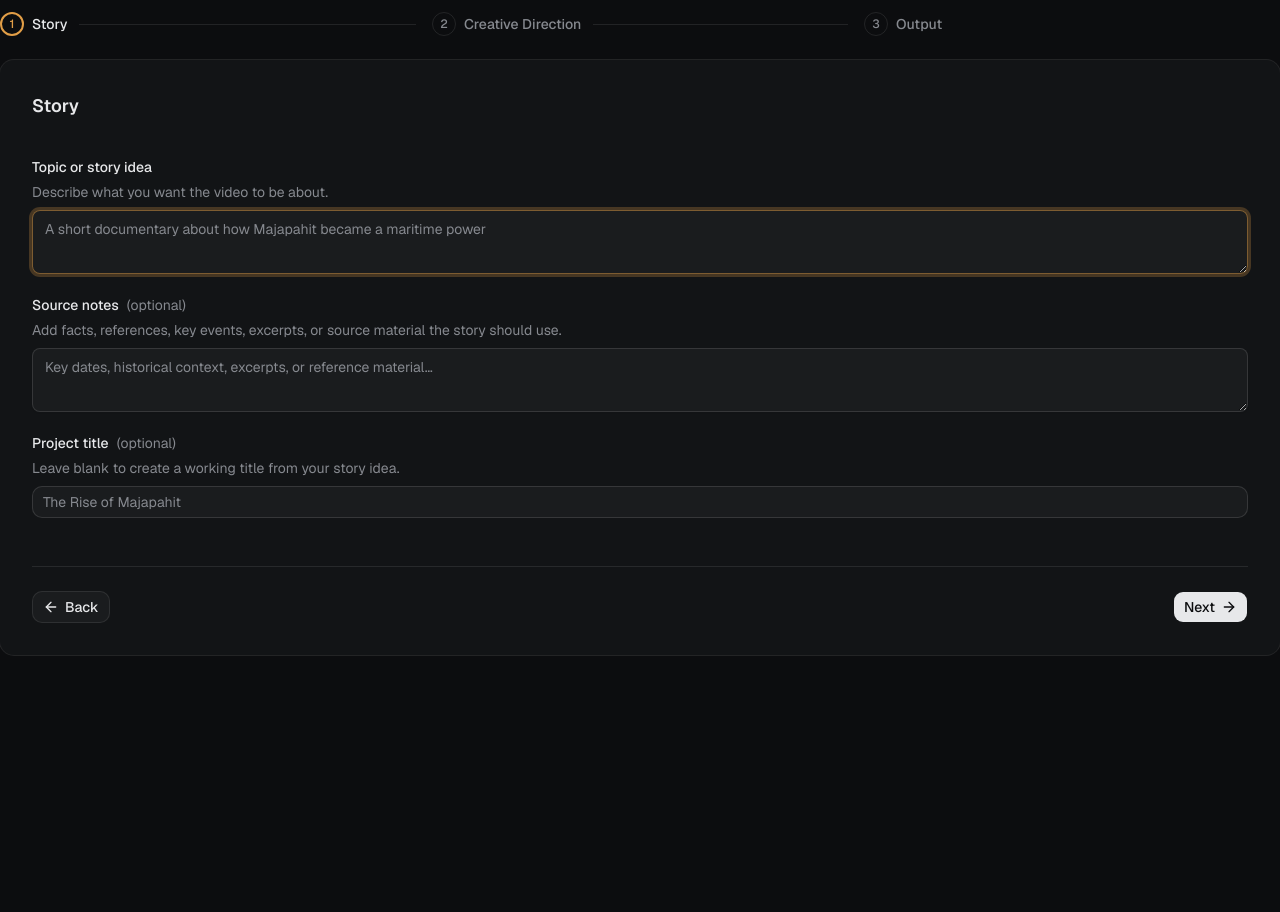
Historical VideoWizard › requires a topic and keeps Story values during step navigation
The image size is (1280, 912).
Click the button "Next": (1210, 607) left=1173, top=591, right=1248, bottom=623
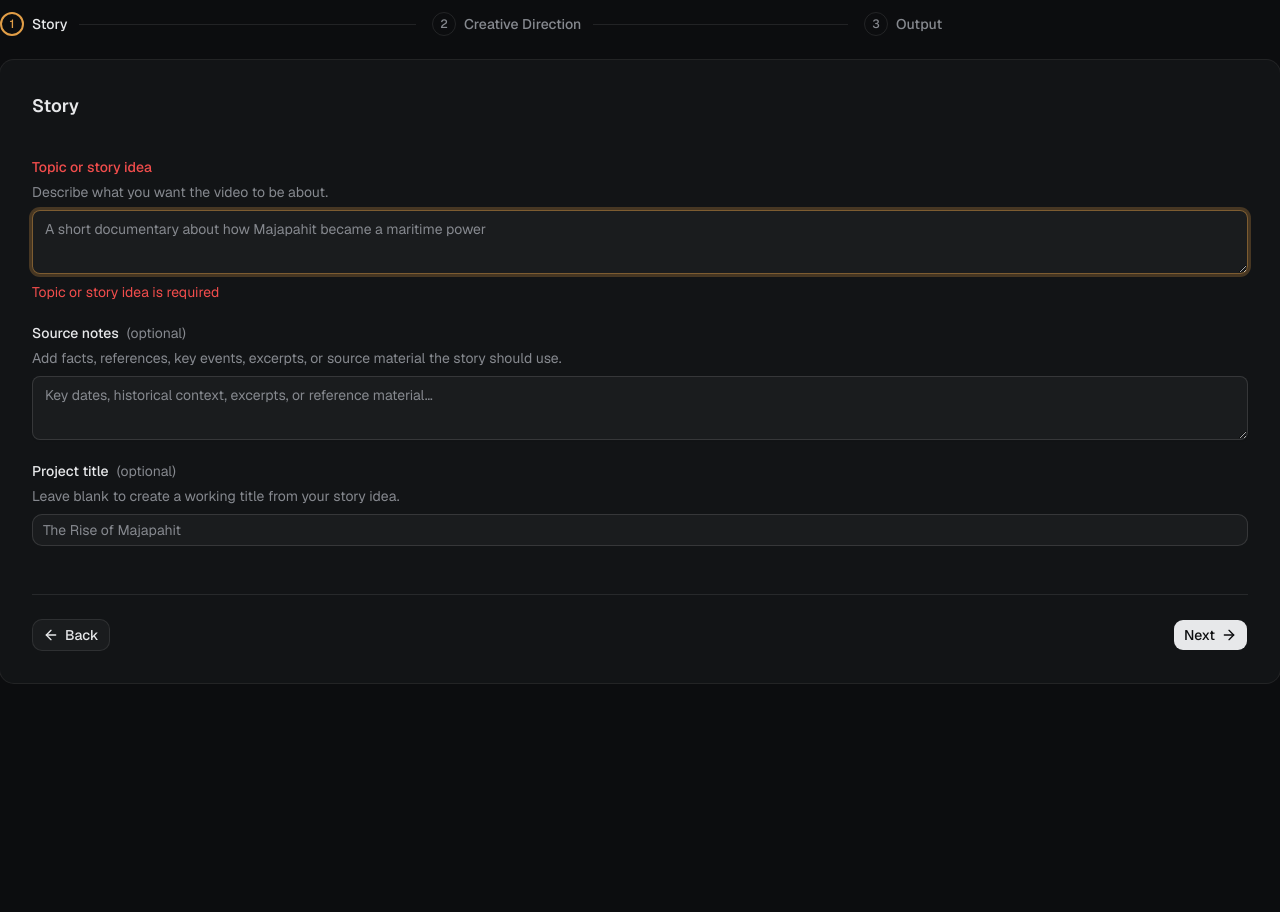
Now the text "Topic or story idea is required" is shown, box left=32, top=283, right=219, bottom=301
In the text box labelled "Topic or story idea": (640, 242) left=32, top=210, right=1248, bottom=274, type "A documentary about Majapahit maritime power"
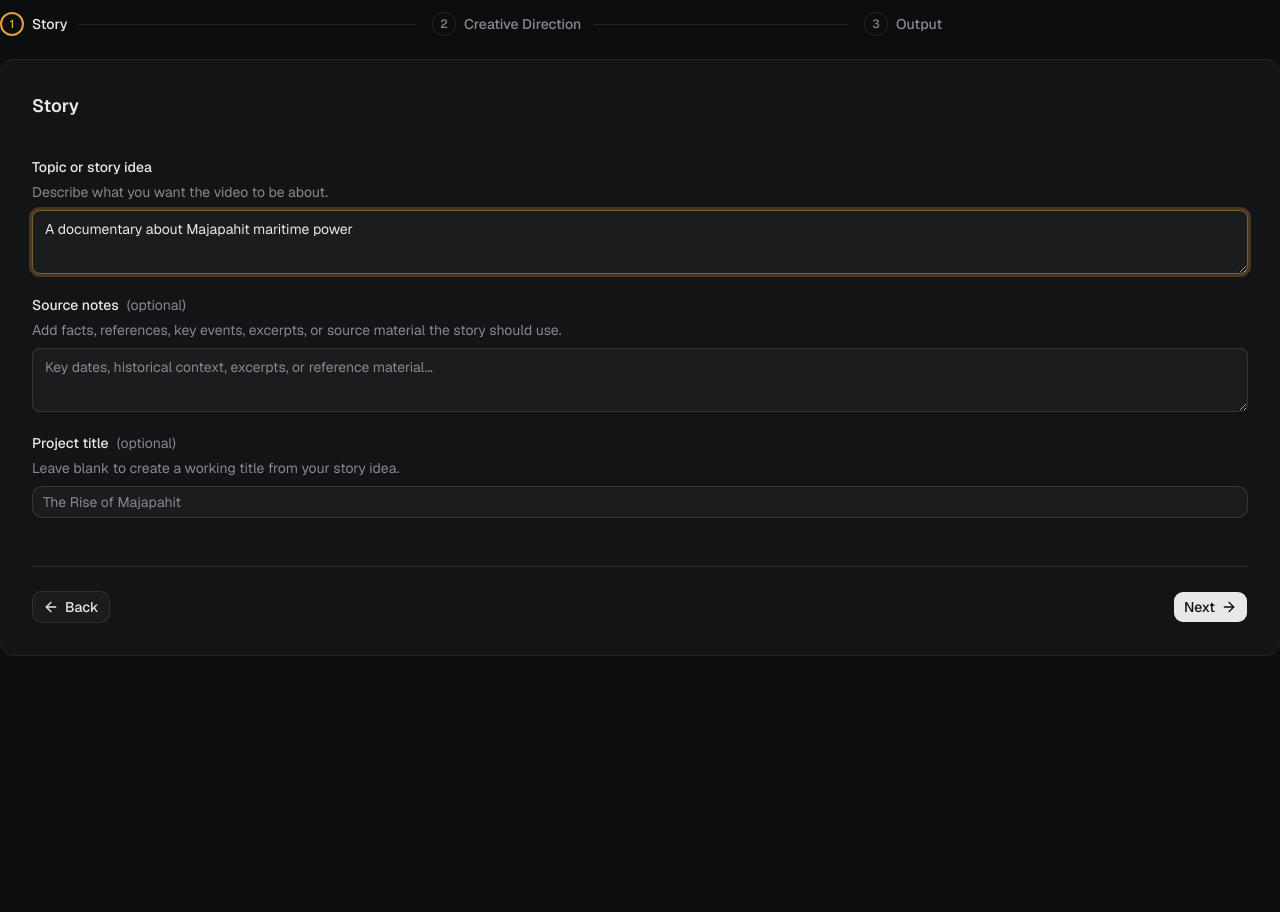
In the text box labelled "Source notes (optional)": (640, 380) left=32, top=348, right=1248, bottom=412, type "A dated source excerpt."
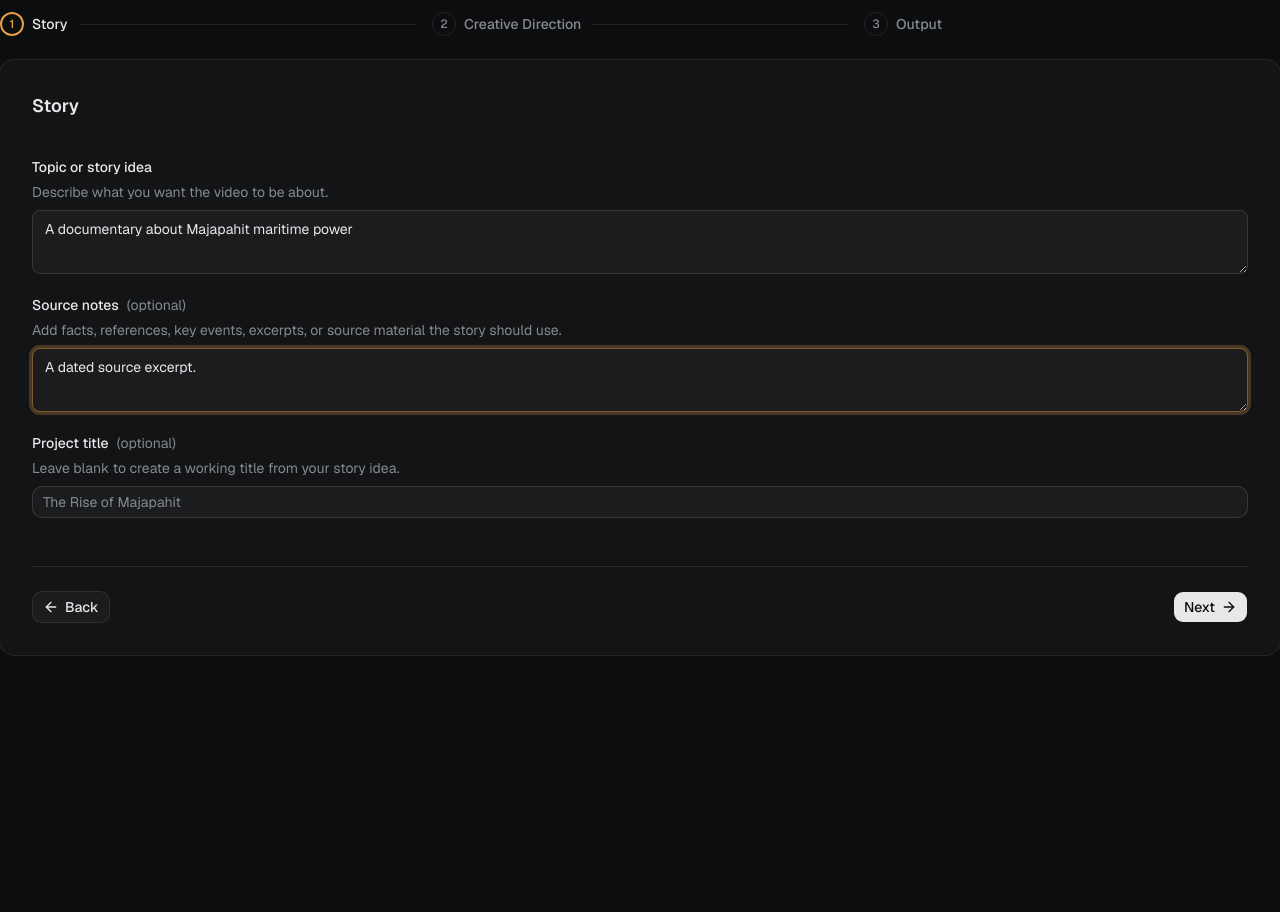
Click the button "Next": (1210, 607) left=1173, top=591, right=1248, bottom=623
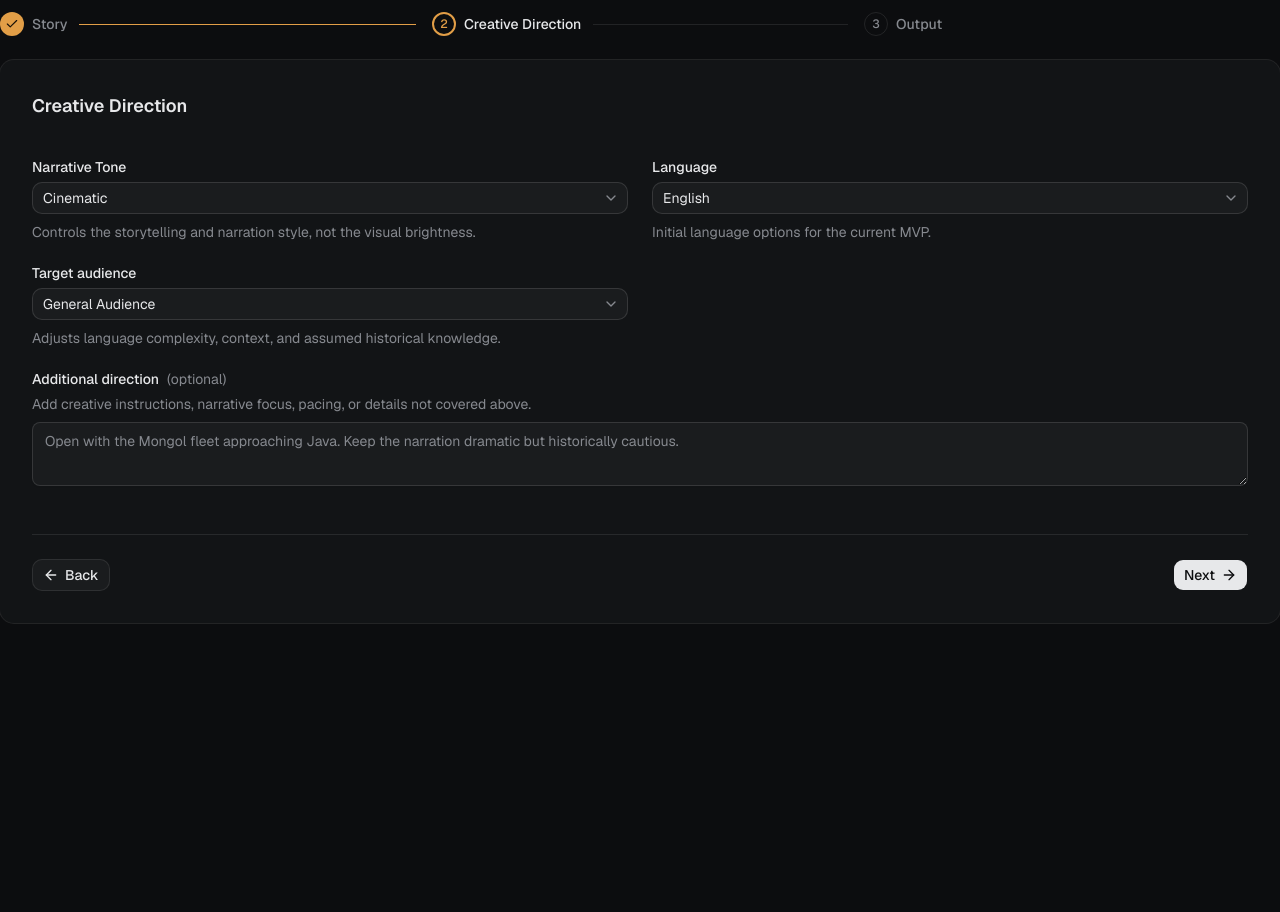
Now the heading "Creative Direction" is shown, box left=32, top=94, right=187, bottom=117
Click the button "Back": (71, 575) left=32, top=559, right=110, bottom=591
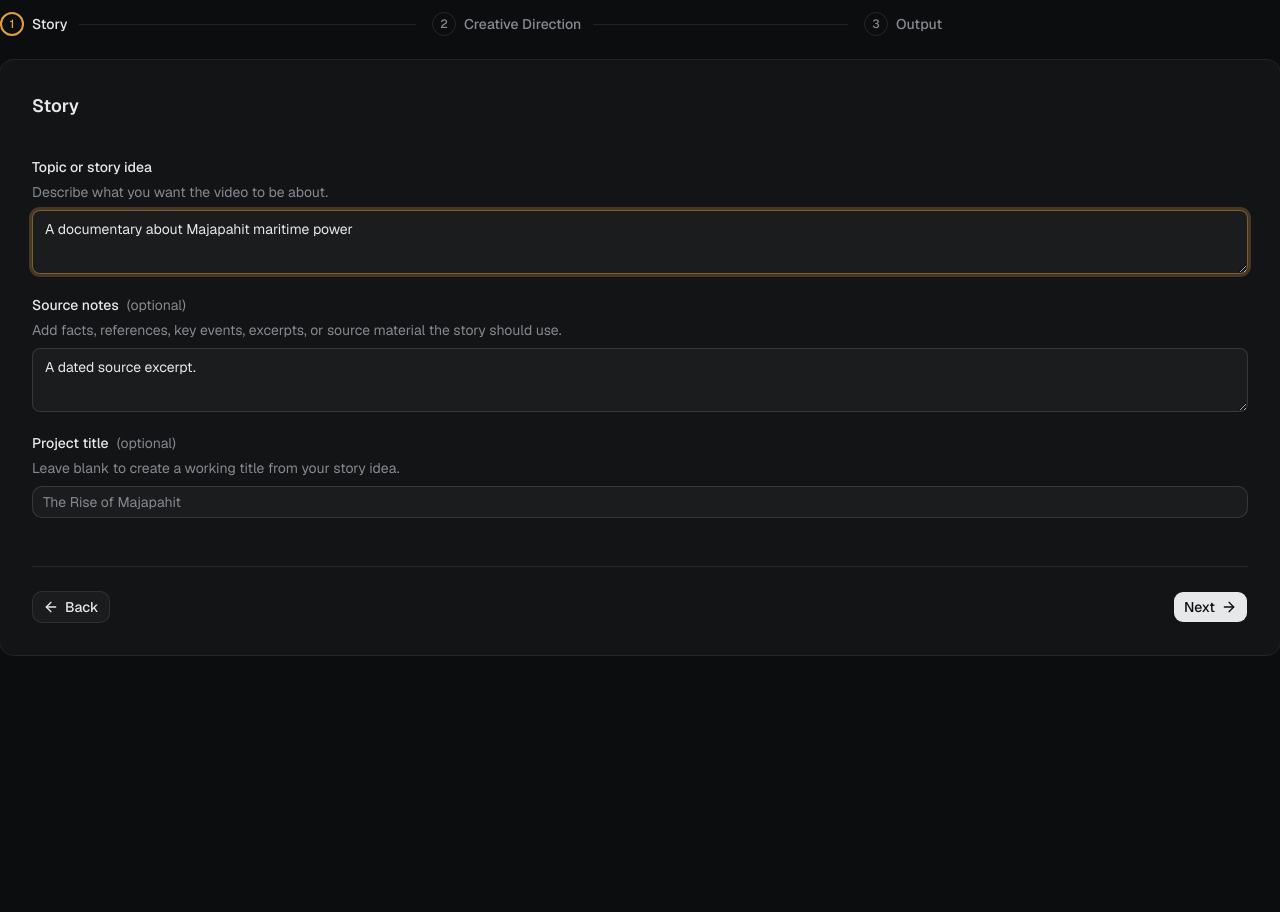
Now the text box labelled "Topic or story idea" holds "A documentary about Majapahit maritime power", box left=32, top=210, right=1248, bottom=274
